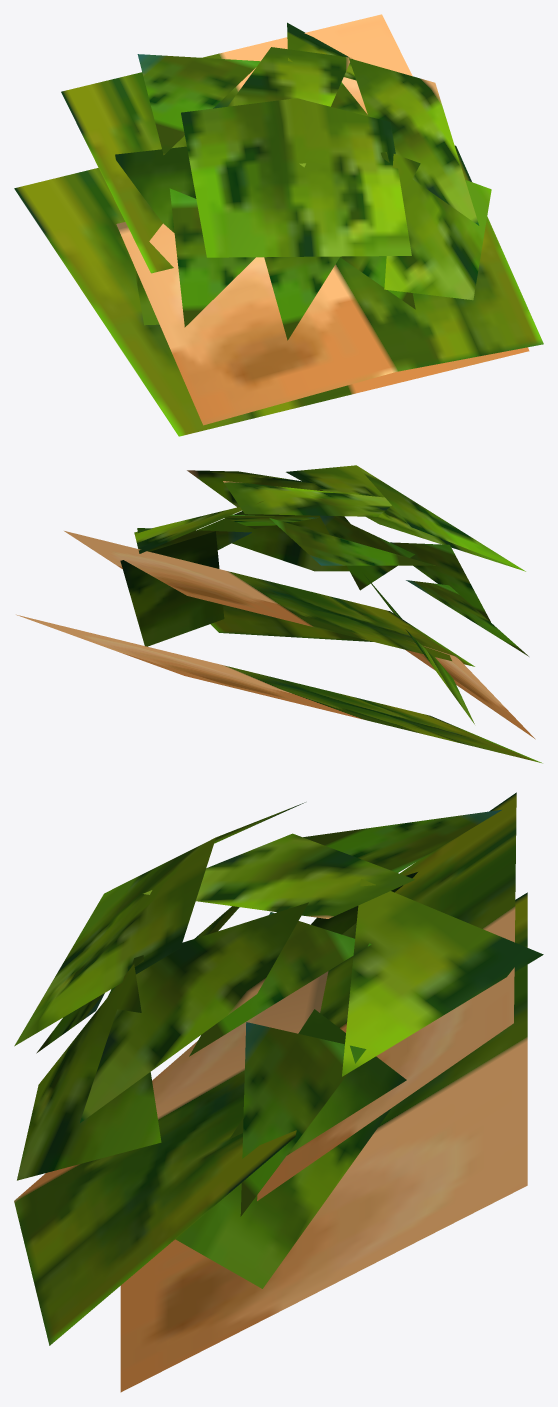
The model's file is fg_bushD_2_ye.dae.
The picture shows the model from 3 angles, top to bottom: view 1: azimuth 30°, elevation 25°; view 2: azimuth 150°, elevation 25°; view 3: azimuth 270°, elevation 25°; orthographic projection. The views are drawn at different scales.
Visible parts, largest first — view 1: fg_bushD_2_ye; view 2: fg_bushD_2_ye; view 3: fg_bushD_2_ye.
Boxes of the visible parts, x1,y1,x2,y2 form: fg_bushD_2_ye: (14,14,543,436); fg_bushD_2_ye: (16,465,542,763); fg_bushD_2_ye: (14,792,543,1392).
Size of the model in its own units: 47.83 by 31.26 by 36.53.
Materials: 1 (1 with a texture image).
